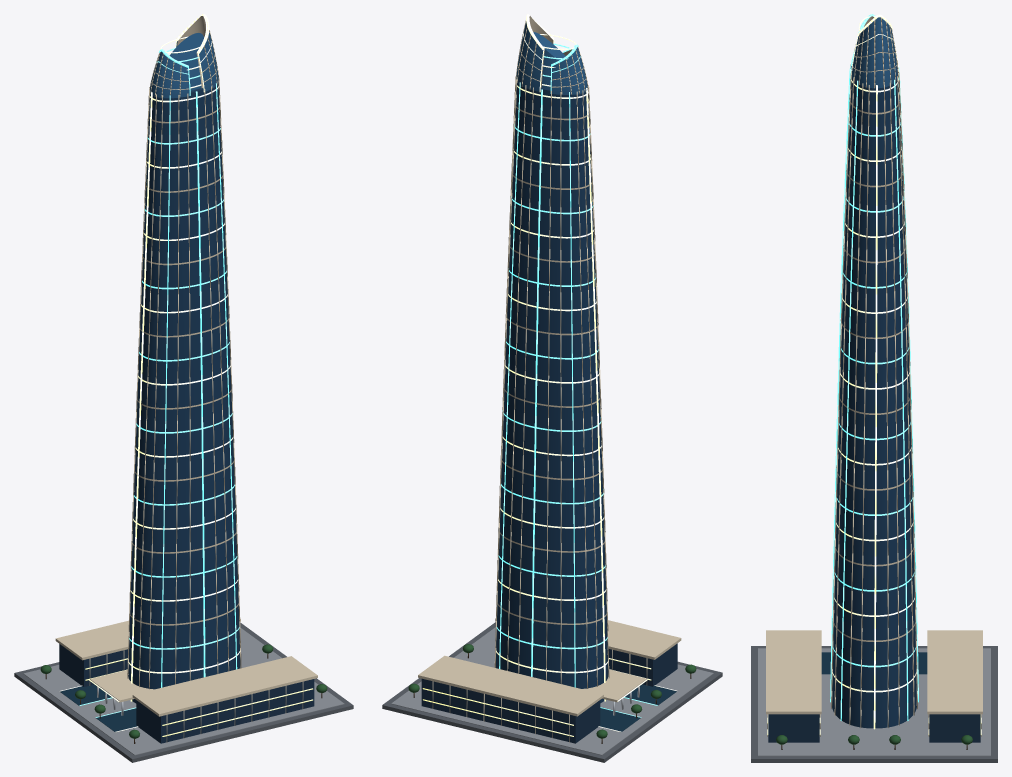
The model's file is suzhou_ifs.glb.
The picture shows the model from 3 angles, left to right: view 1: azimuth 30°, elevation 25°; view 2: azimuth 150°, elevation 25°; view 3: azimuth 270°, elevation 25°; orthographic projection. The views are drawn at different scales.
Visible parts, largest first — view 1: SuzhouIFS_450m; view 2: SuzhouIFS_450m; view 3: SuzhouIFS_450m.
Part boxes in pixels (x1=…): SuzhouIFS_450m: x1=14, y1=14, x2=353, y2=762; SuzhouIFS_450m: x1=382, y1=14, x2=722, y2=762; SuzhouIFS_450m: x1=751, y1=14, x2=997, y2=762.
Size of the model in its own units: 156 by 452 by 144.
